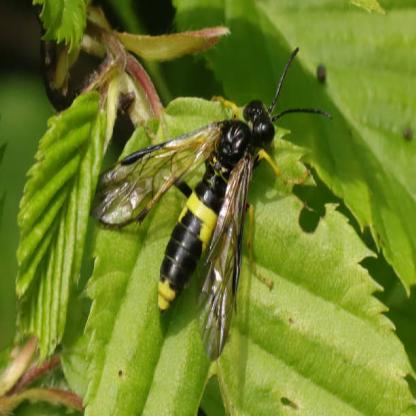sawfly: (91, 46, 337, 354)
